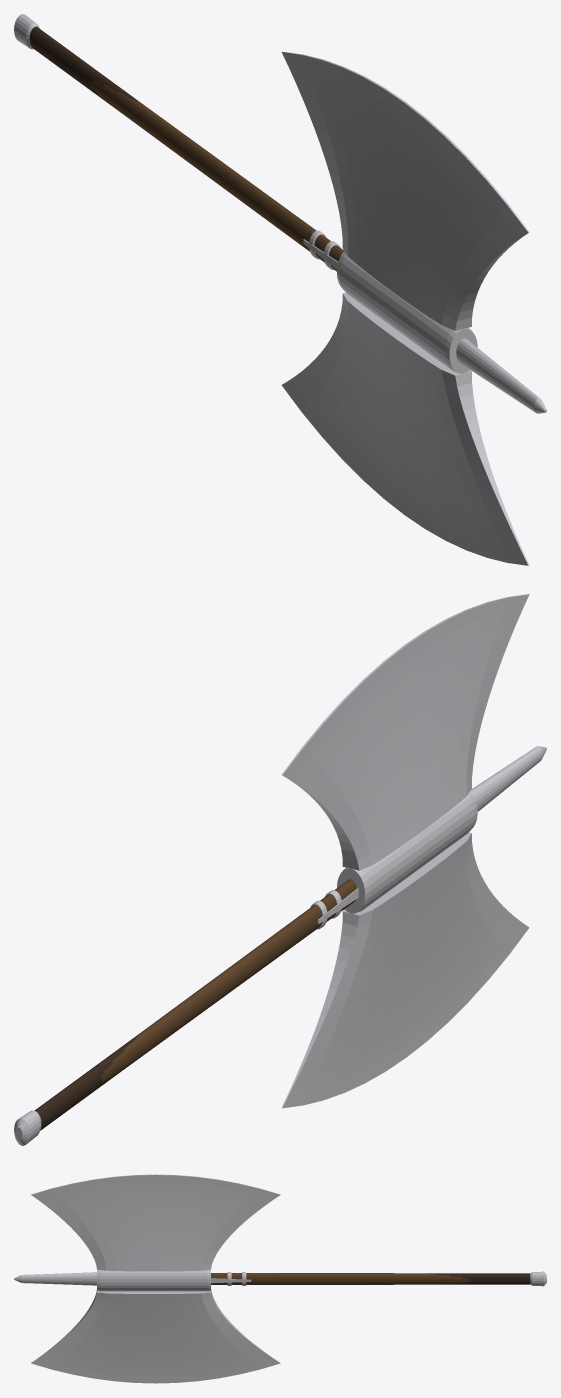
The model's file is weapon_greataxe.glb.
3 renders of one model, top to bottom at view 1: azimuth 30°, elevation 25°; view 2: azimuth 150°, elevation 25°; view 3: azimuth 270°, elevation 25°, orthographic. The views are drawn at different scales.
Parts seen in each view (by area): view 1: greataxe; view 2: greataxe; view 3: greataxe.
Part boxes in pixels (bbox=[...]): greataxe: bbox=[14, 14, 546, 565]; greataxe: bbox=[14, 594, 546, 1145]; greataxe: bbox=[14, 1174, 546, 1383].
Bounding box in the file's own units: 0.0482 × 0.626 × 1.45.
